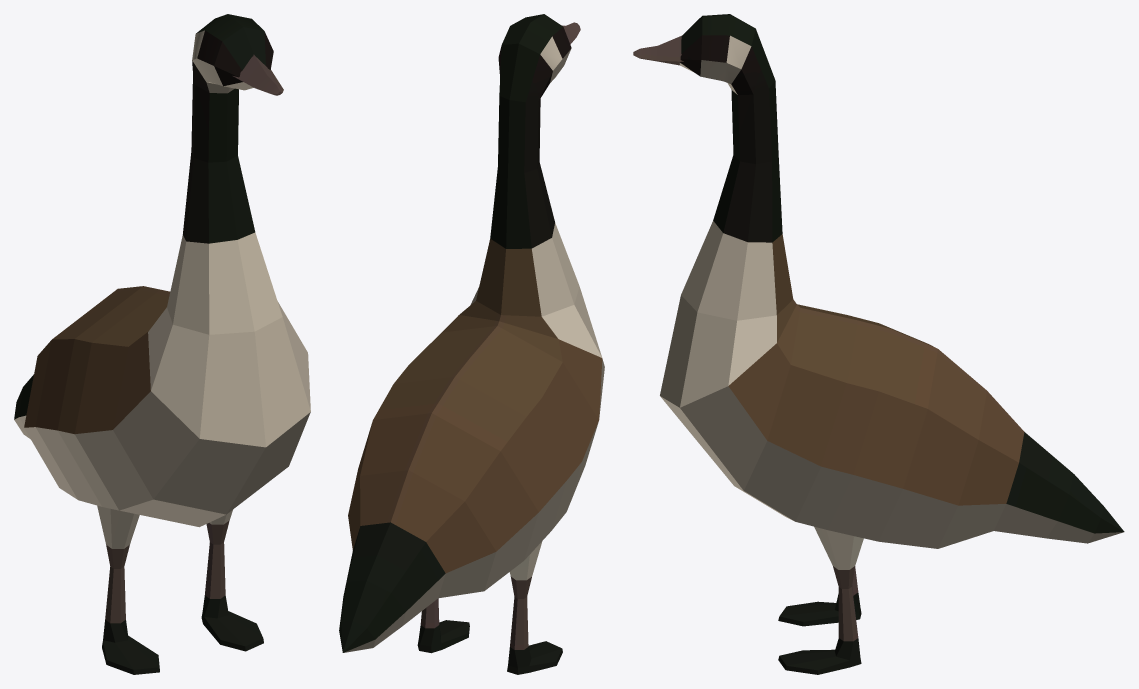
The model's file is 9wn3If7Qgb4.glb.
3 renders of one model, left to right at view 1: azimuth 30°, elevation 25°; view 2: azimuth 150°, elevation 25°; view 3: azimuth 270°, elevation 25°, orthographic. The views are drawn at different scales.
Visible parts, largest first — view 1: Geo_Goose; view 2: Geo_Goose; view 3: Geo_Goose.
Boxes of the visible parts, x1,y1,x2,y2 form: Geo_Goose: [14, 14, 310, 674]; Geo_Goose: [339, 14, 604, 674]; Geo_Goose: [633, 14, 1124, 674].
Bounding box in the file's own units: 0.331 × 1 × 0.7124.
Materials: 1 (1 with a texture image).
